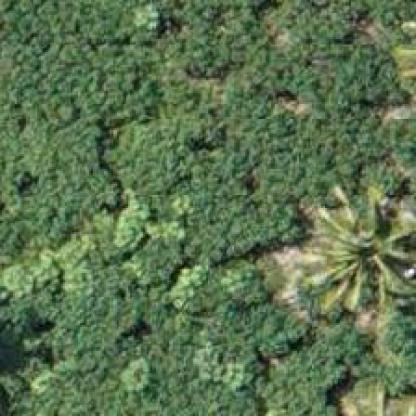coconut tree: (313, 212, 415, 312)
